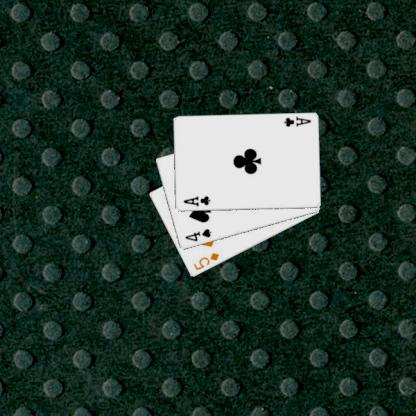4S: (182, 226, 212, 243)
5D: (191, 250, 220, 272)
AC: (180, 193, 212, 208), (281, 114, 312, 128)
